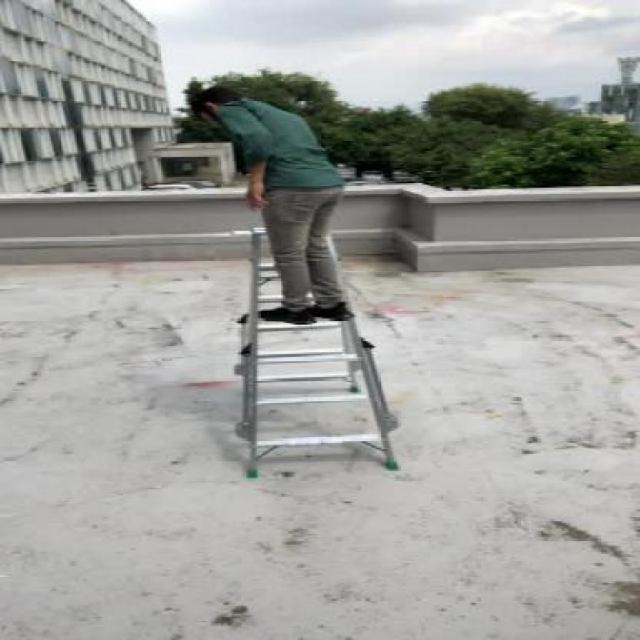hard hat: (214, 218, 412, 478)
vest: (170, 80, 370, 324)
